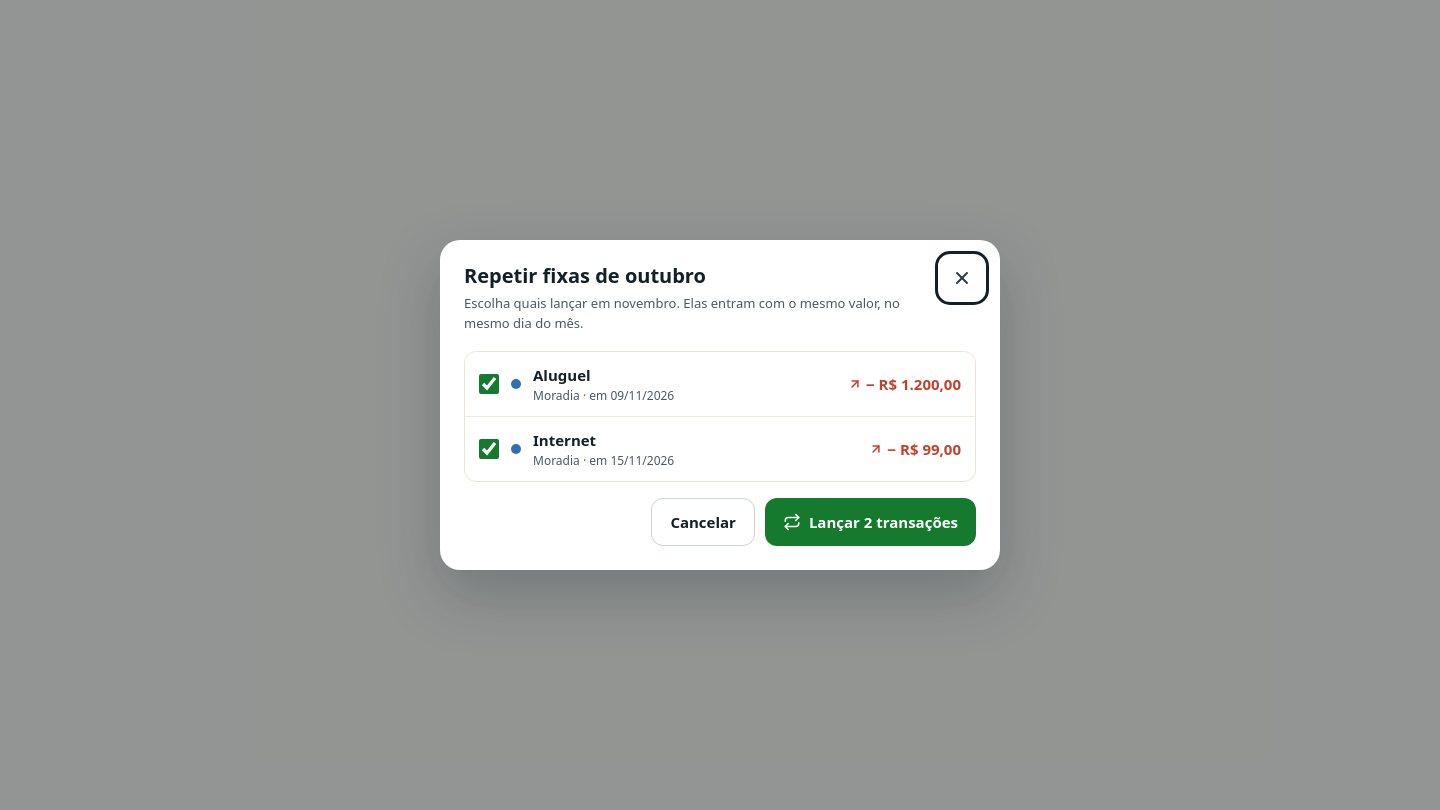
Scenario: RepetirFixasDialog › sem nenhuma marcada, o botão fica desabilitado
Click the checkbox labelled "Aluguel Moradia · em 09/11/2026 − R$ 1.200,00" at (489, 384), box top-left (479, 374), bottom-right (499, 394)
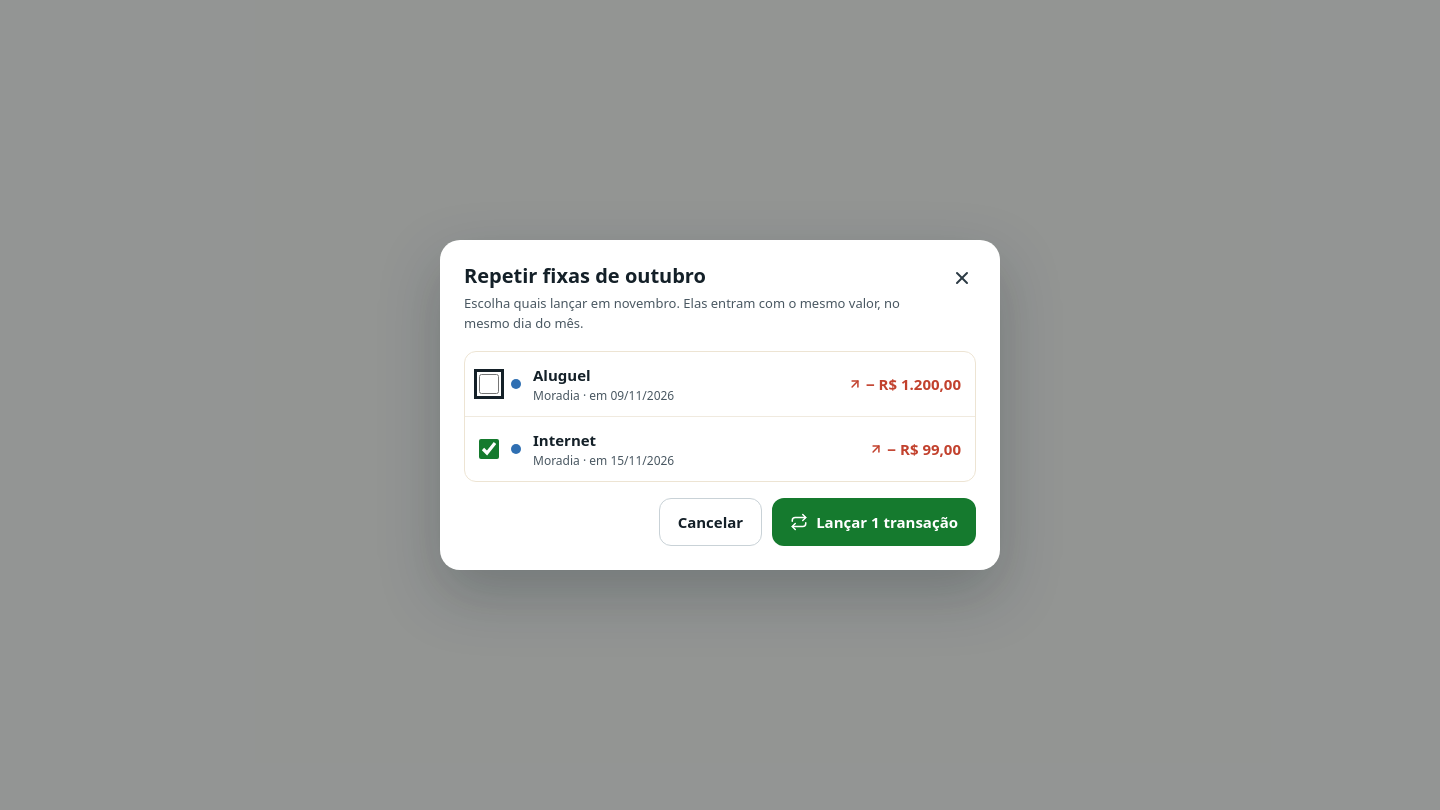
Click the checkbox labelled "Internet Moradia · em 15/11/2026 − R$ 99,00" at (489, 449), box top-left (479, 439), bottom-right (499, 459)
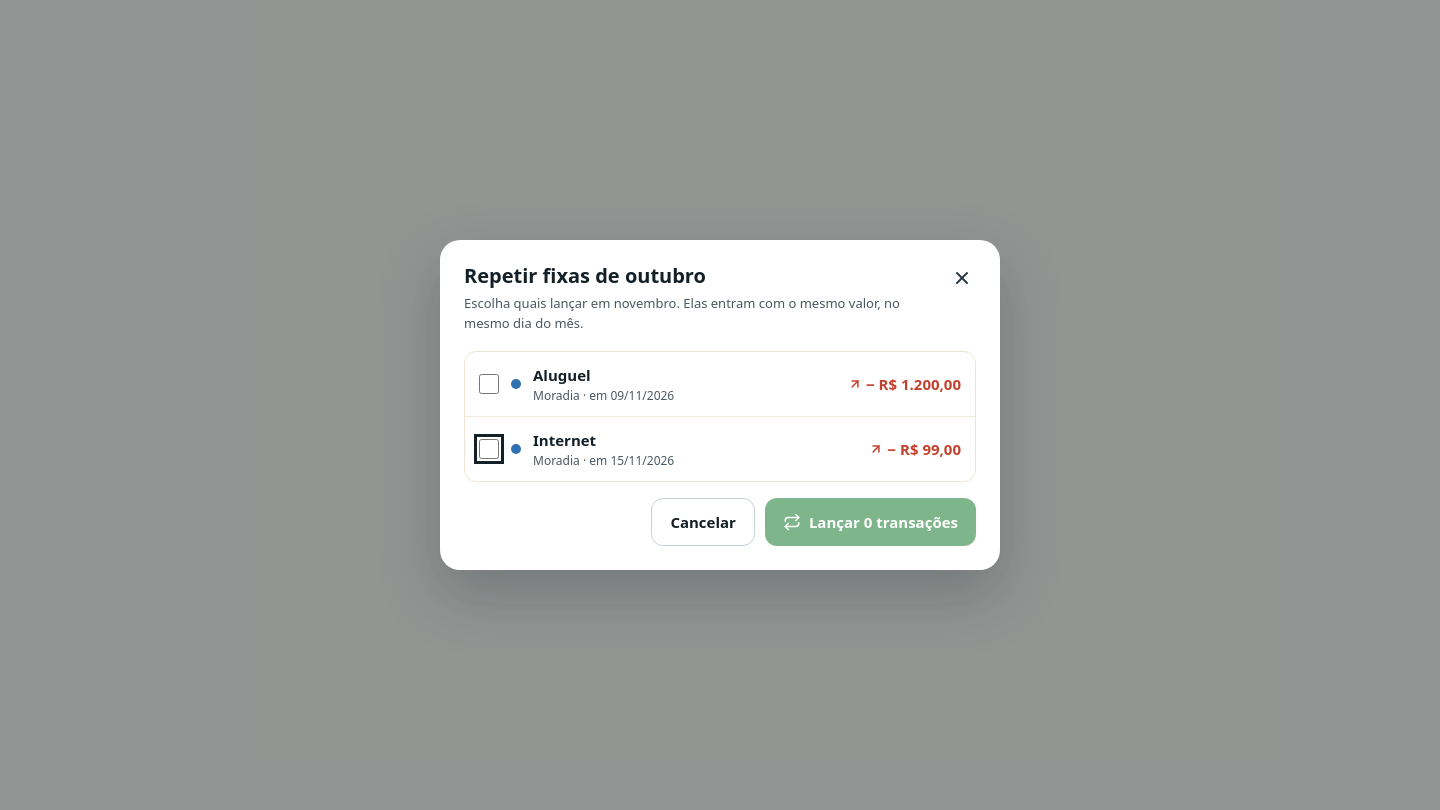
Expected: the button "Lançar 0 transações" is disabled, top-left (765, 498), bottom-right (976, 546)
